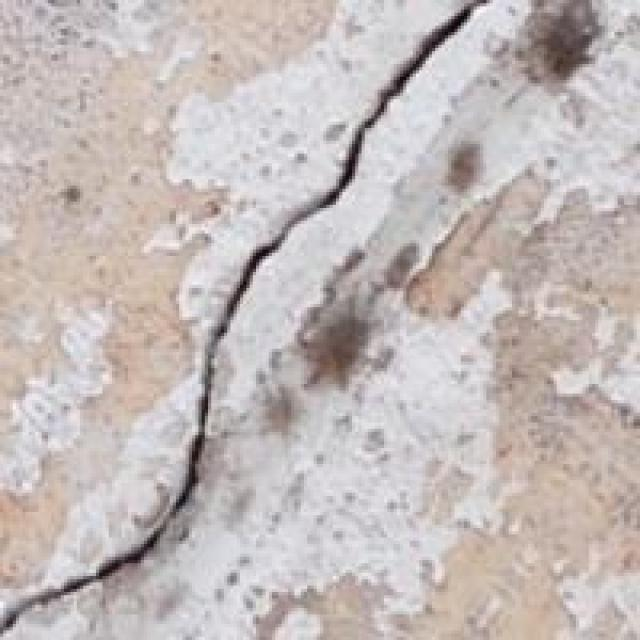Crack: (0, 0, 480, 637)
